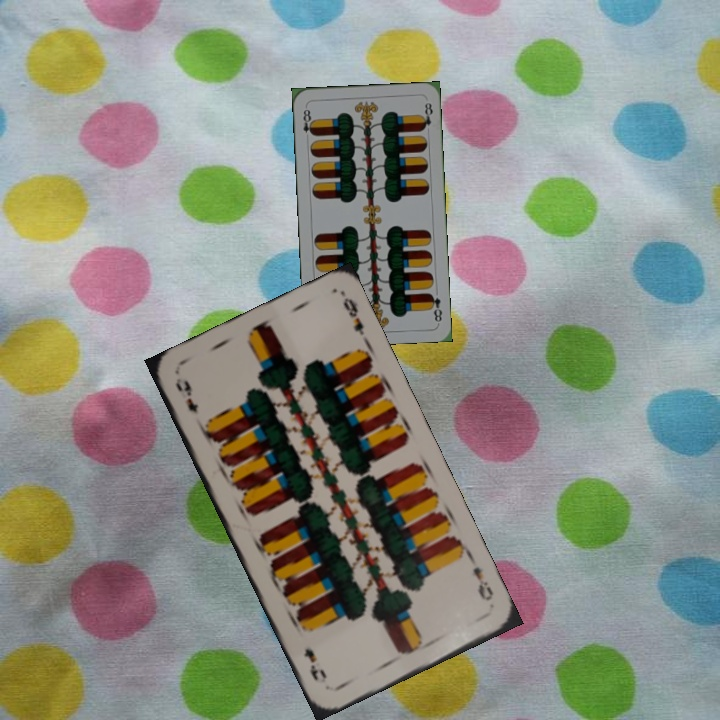E8: (425, 289, 445, 324), (299, 102, 317, 138)
E9: (465, 553, 496, 603), (171, 374, 201, 415)
